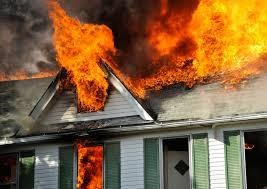fire: (125, 0, 267, 91), (45, 0, 119, 110), (76, 141, 104, 189), (0, 64, 52, 82)
